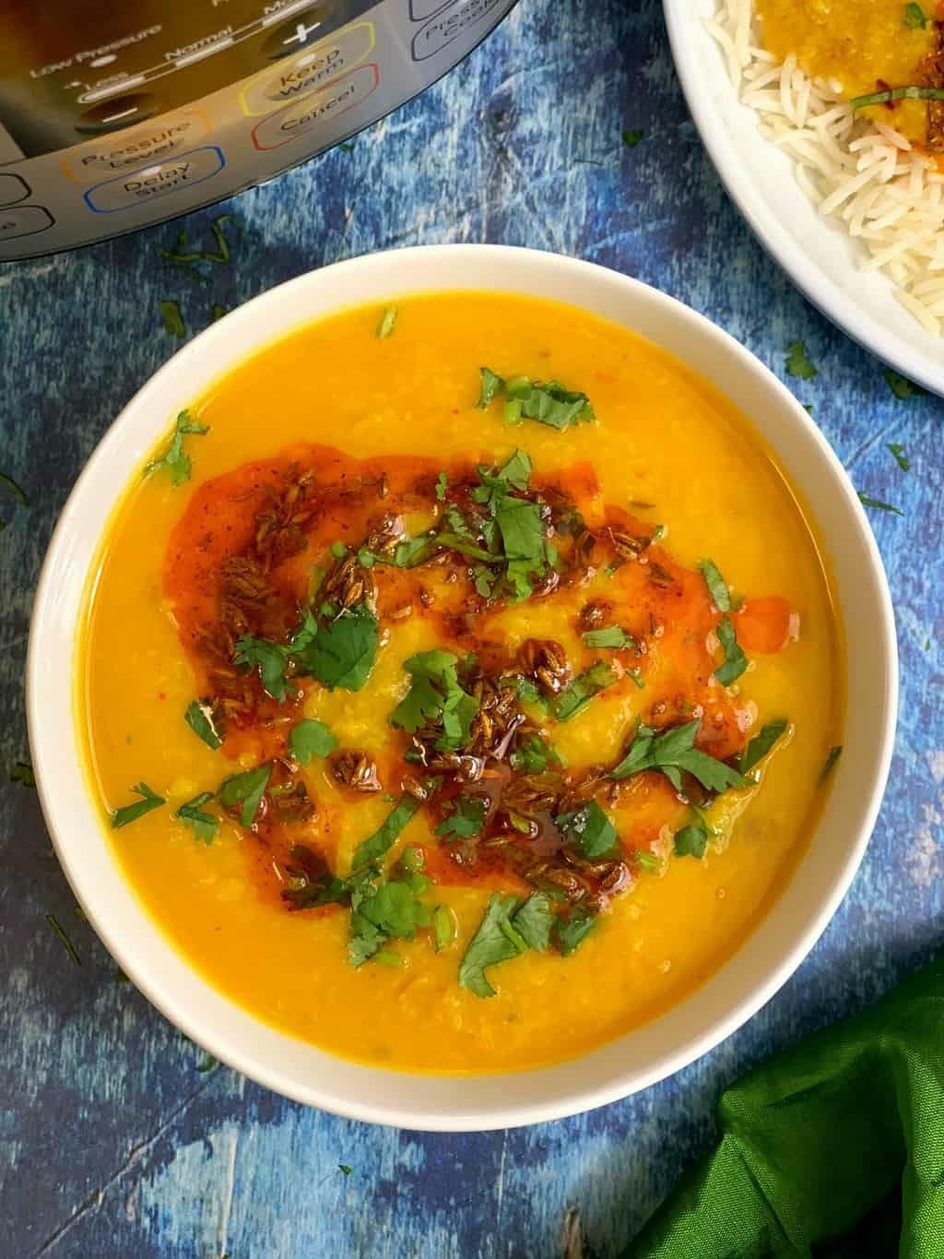Dal: (84, 297, 846, 1062)
